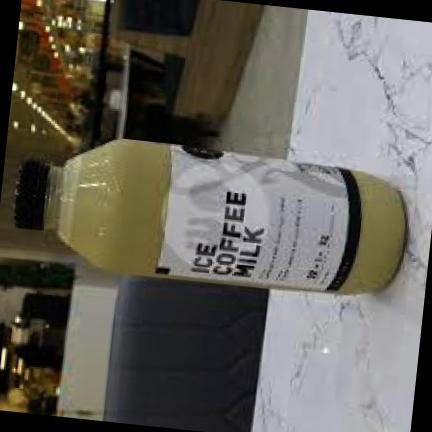container: (15, 139, 403, 293)
fluid: (59, 139, 403, 293)
fluid-surface: (57, 167, 68, 231)
